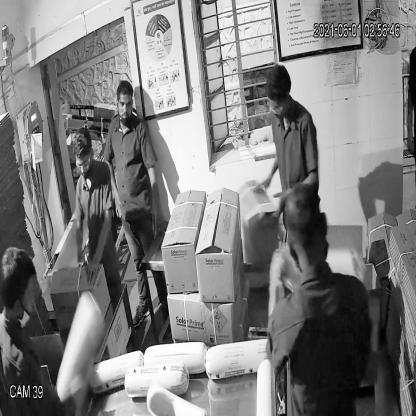goggles: (71, 150, 99, 176)
